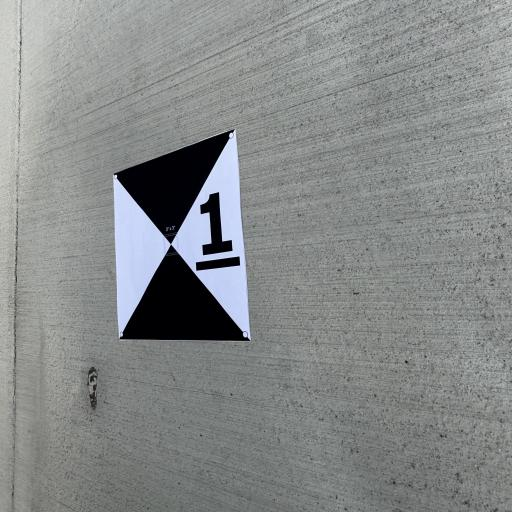target1: (102, 127, 255, 351)
